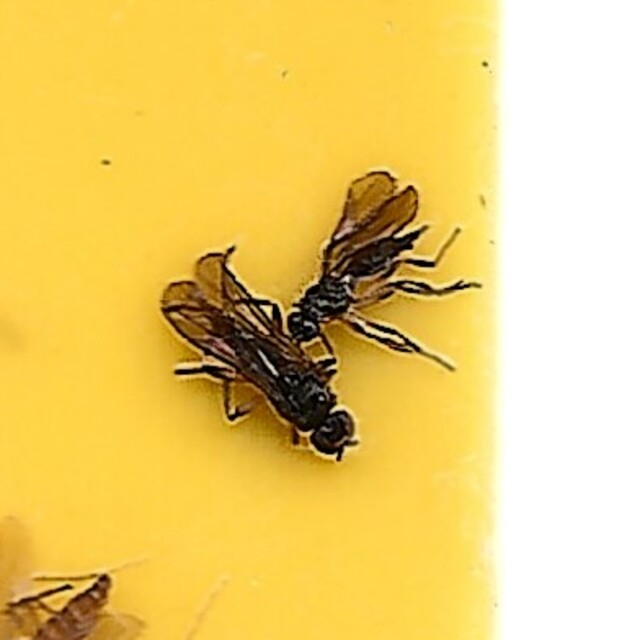Brachycera: (163, 245, 374, 467), (287, 173, 477, 376)
